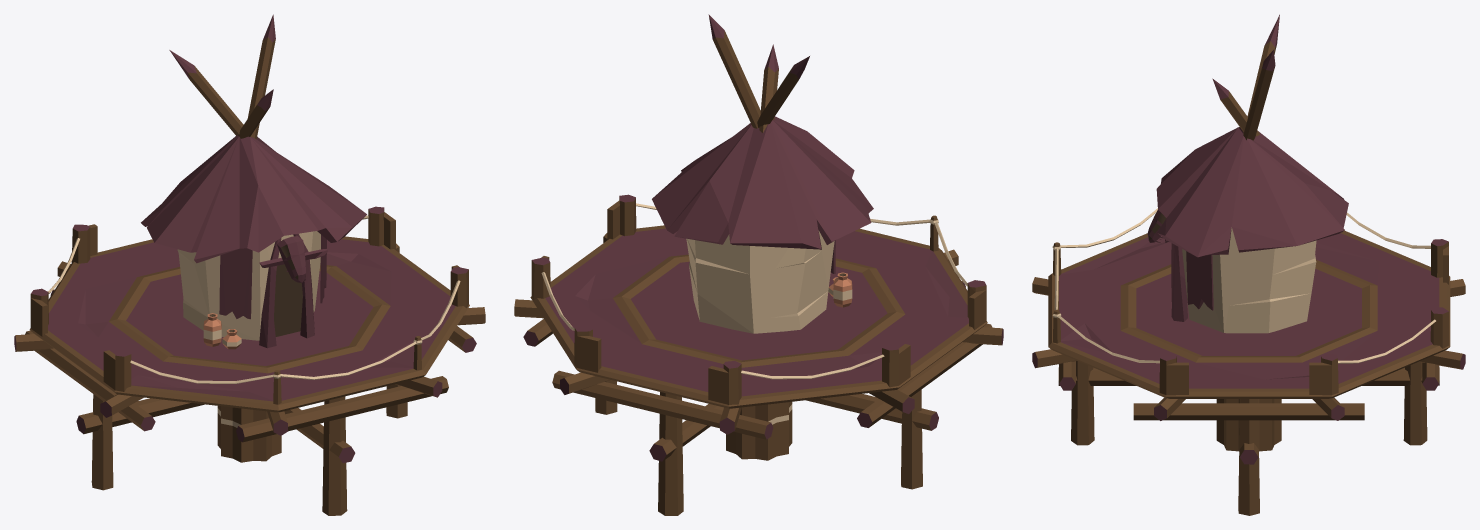
Rendered from SM_Tower_Tribal_Tier1.fbx.
3 views of the same model, side by side, from view 1: azimuth 30°, elevation 25°; view 2: azimuth 150°, elevation 25°; view 3: azimuth 270°, elevation 25° (orthographic). The views are drawn at different scales.
Visible parts, largest first — view 1: SM_Tower_Tribal_Tier1; view 2: SM_Tower_Tribal_Tier1; view 3: SM_Tower_Tribal_Tier1.
Part boxes in pixels (left/top/right/bottom): SM_Tower_Tribal_Tier1: left=14, top=14, right=485, bottom=515; SM_Tower_Tribal_Tier1: left=514, top=14, right=1003, bottom=515; SM_Tower_Tribal_Tier1: left=1032, top=14, right=1465, bottom=515.
Bounding box in the file's own units: 10.79 × 11.21 × 10.79.
